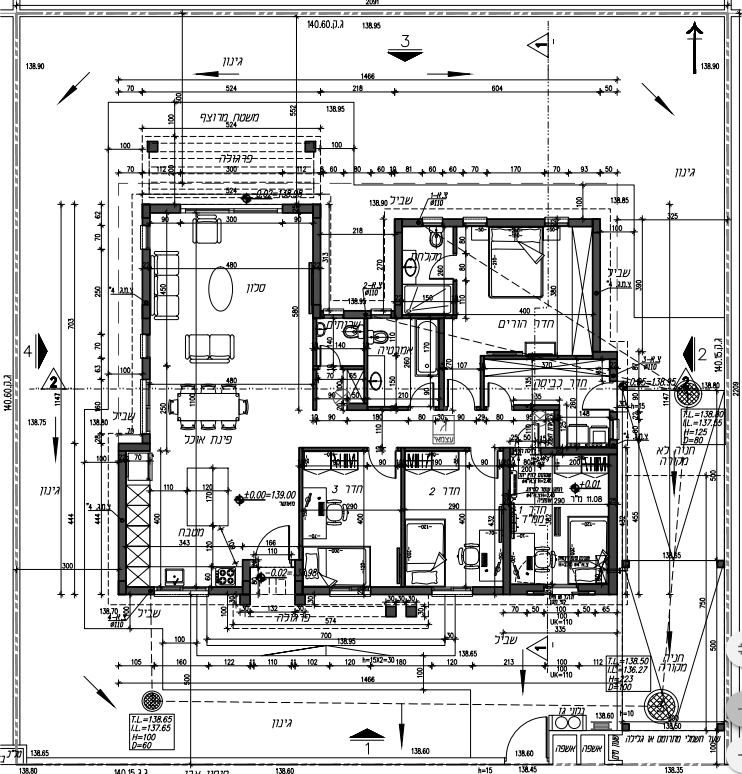door: (423, 251, 467, 286), (247, 522, 291, 557), (580, 381, 610, 412), (445, 377, 477, 406), (368, 452, 400, 480), (407, 379, 436, 405), (485, 379, 512, 406)
wall: (608, 446, 618, 593), (592, 218, 601, 358), (119, 443, 127, 594), (313, 203, 321, 317), (395, 218, 403, 316), (142, 249, 151, 336)
window: (180, 202, 283, 215), (328, 583, 371, 599), (154, 586, 211, 598), (140, 380, 151, 434), (431, 585, 474, 598), (546, 584, 578, 596), (543, 215, 570, 228), (139, 334, 153, 359), (139, 224, 150, 250), (423, 216, 444, 227), (463, 216, 487, 225)
